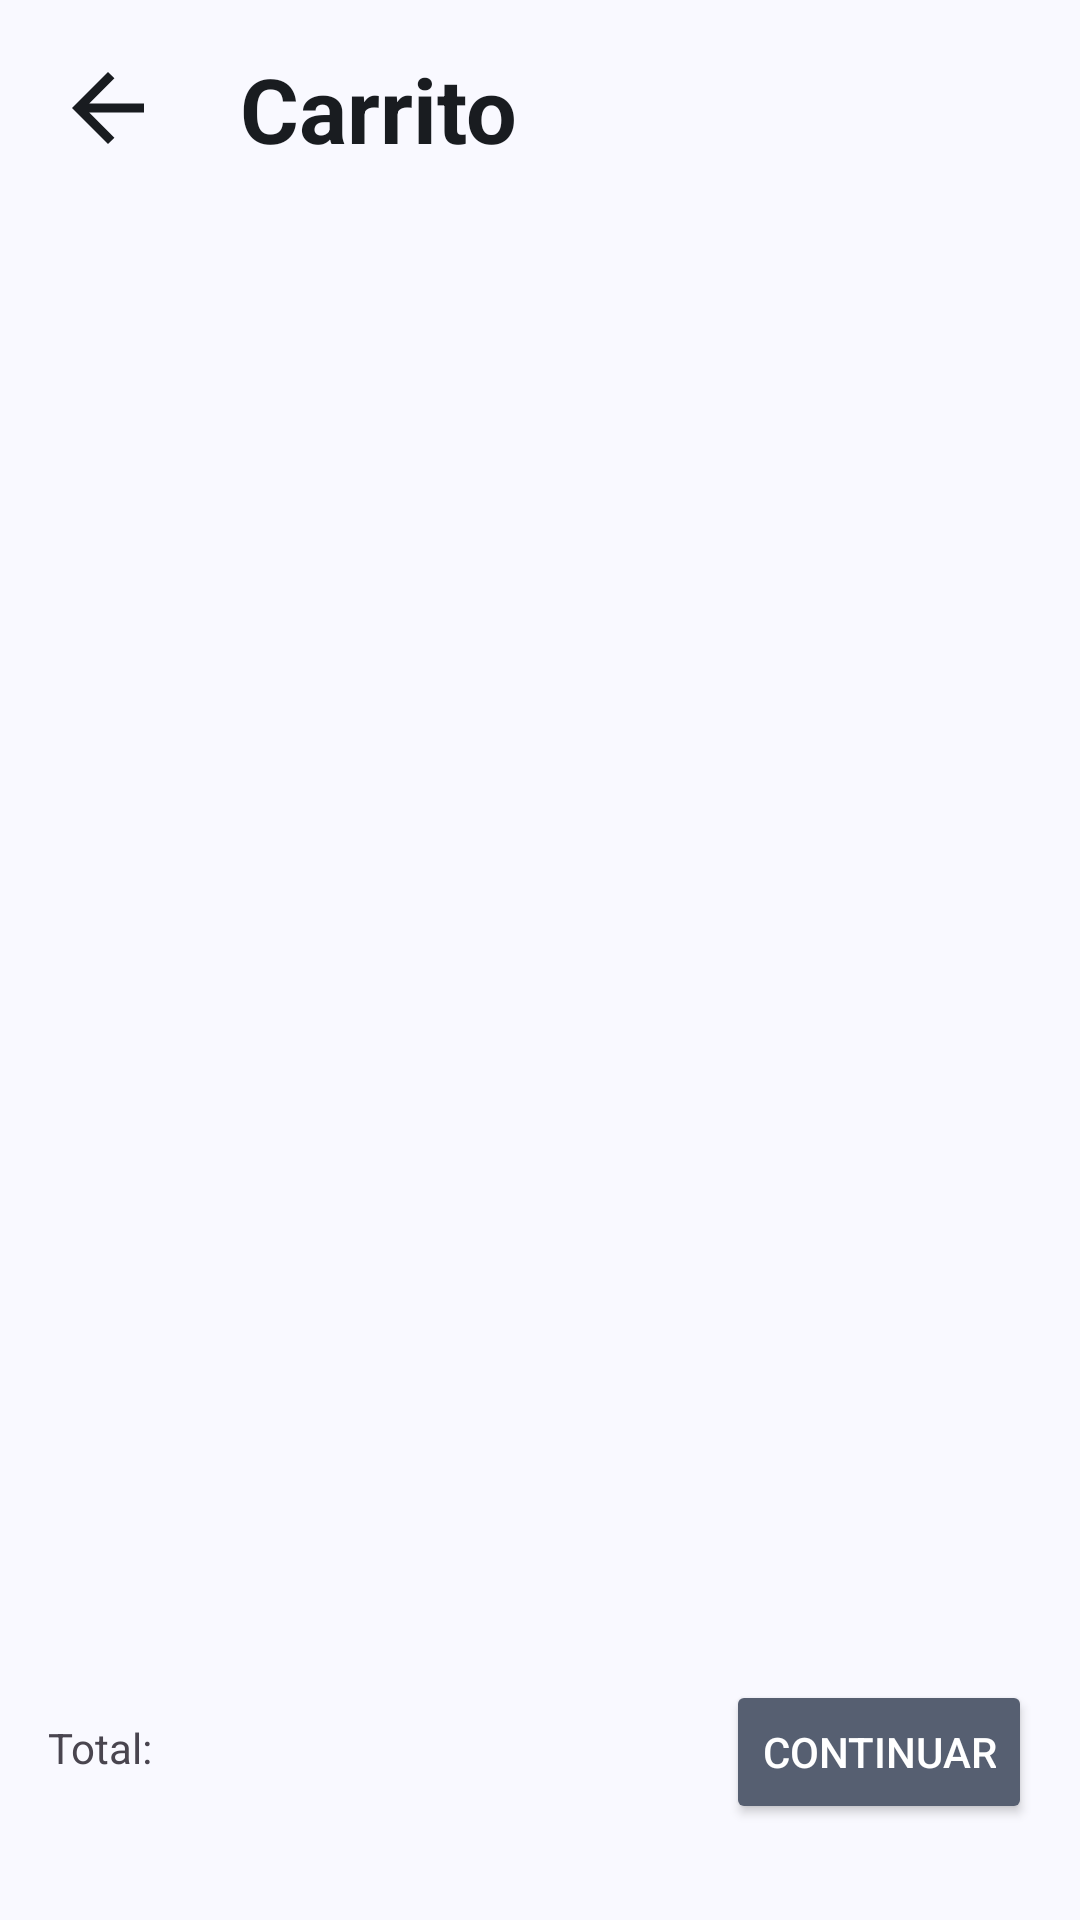

Named icons in this screenshot (1080px x 1920px) and their bounding boxes, bbox(x1, y1, x2, y2):
Atras: bbox(72, 72, 144, 144)
